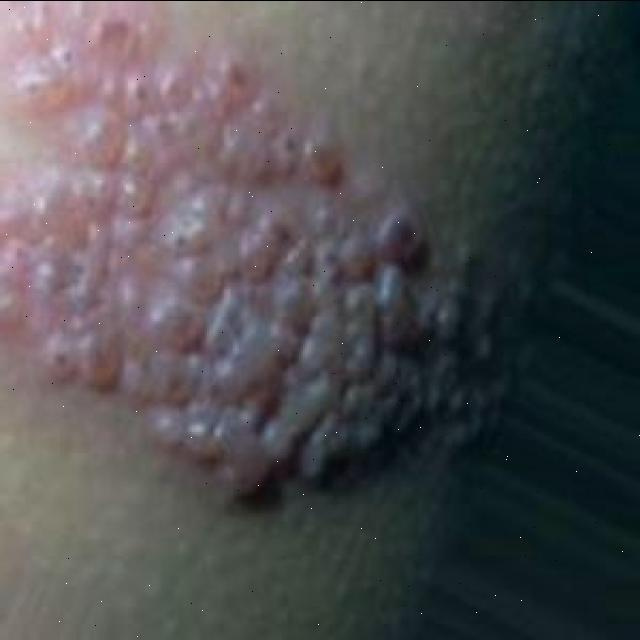Shingles: (1, 0, 502, 504)
